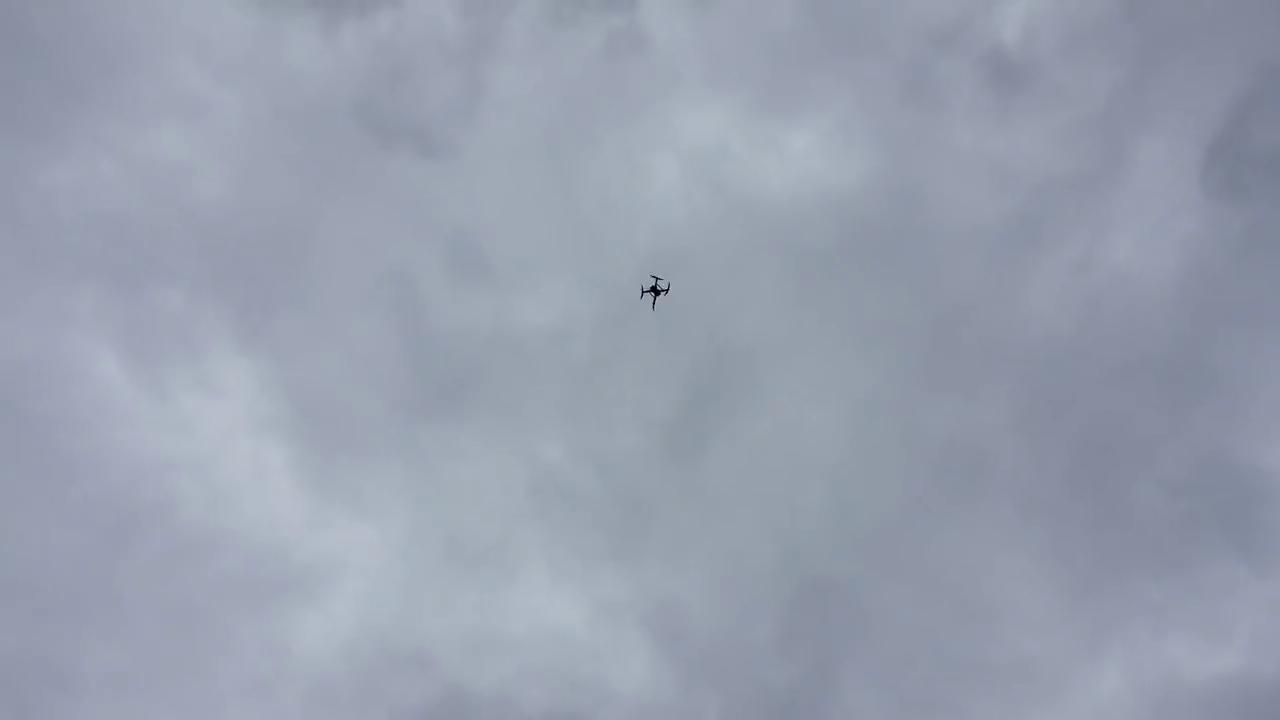drone: (634, 261, 680, 318)
